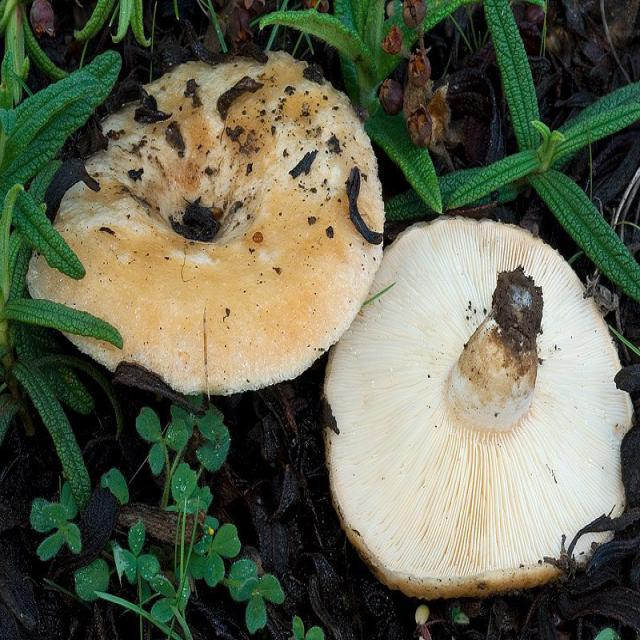Armillaria mellea: (28, 56, 385, 403), (327, 216, 631, 596)
